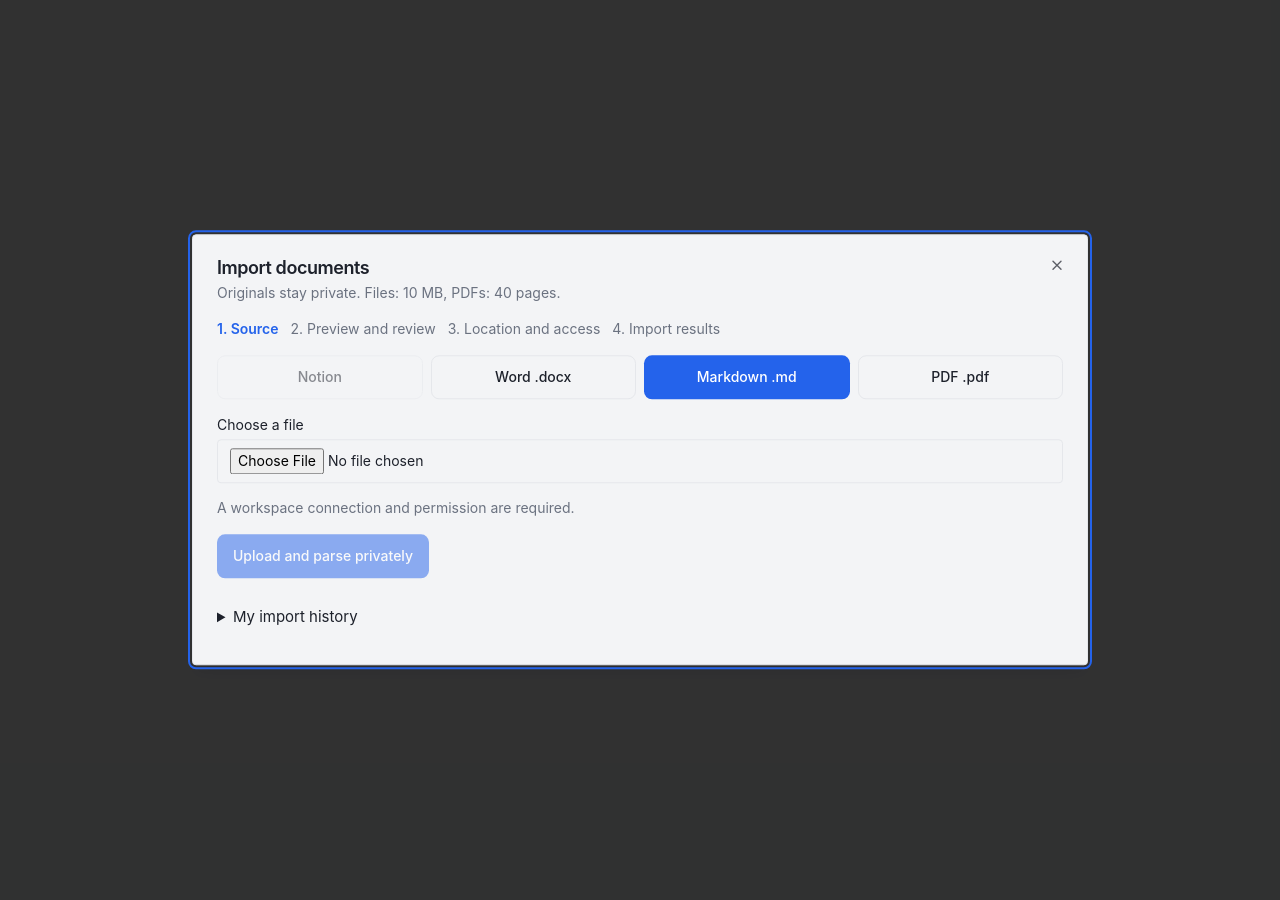
Test: import dialog without the optional processor › explains that Word needs the processor and does not start that upload
This screenshot has width=1280, height=900.
Click the button "Word .docx".
click(533, 377)  # box [430,355,636,399]
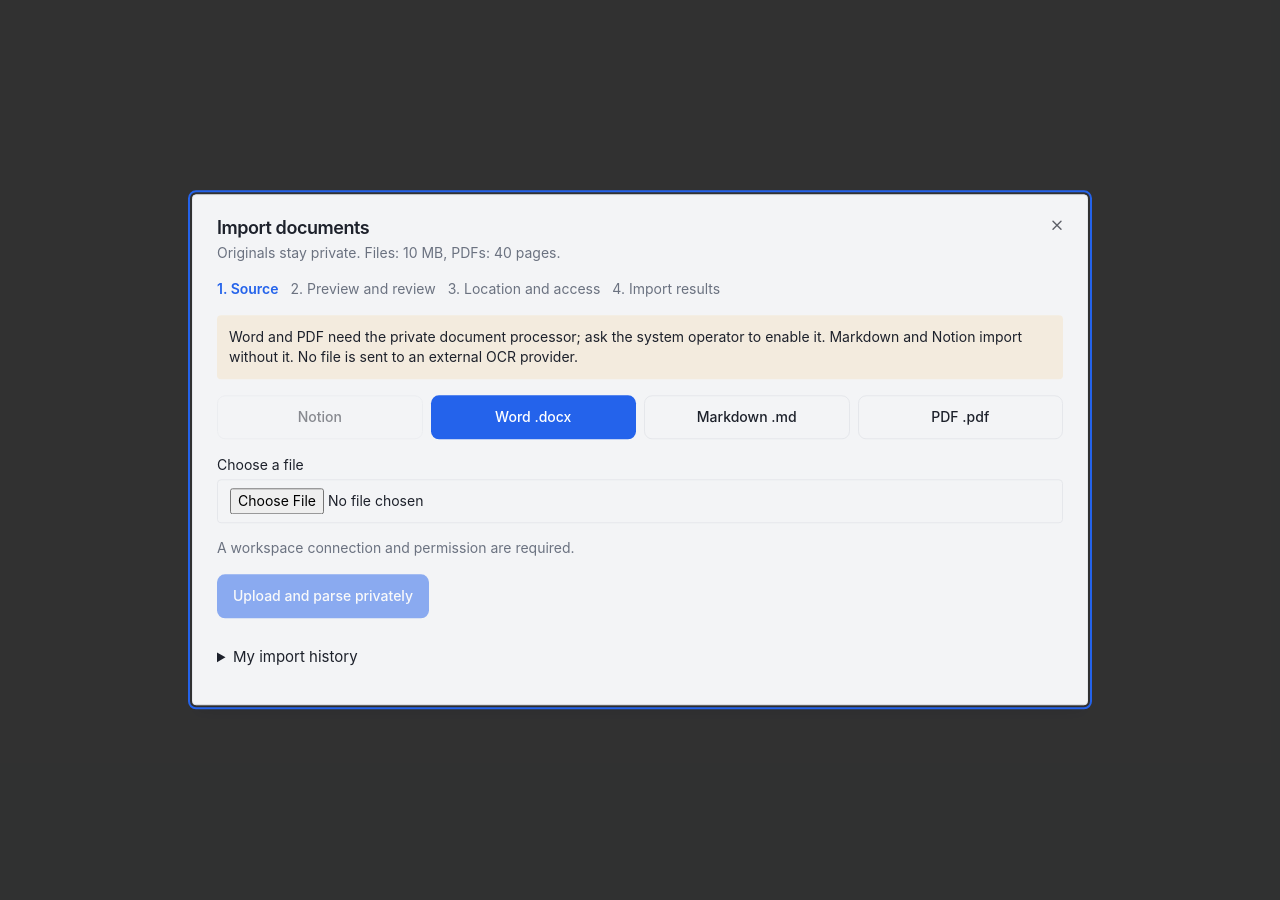
Expected: the button "Upload and parse privately" is disabled, [217,574,429,618]
Expected: the message shows "Word and PDF need the private document processor; ask the system operator to enable it. Markdown and Notion import without it. No file is sent to an external OC", [229,328,1022,365]
